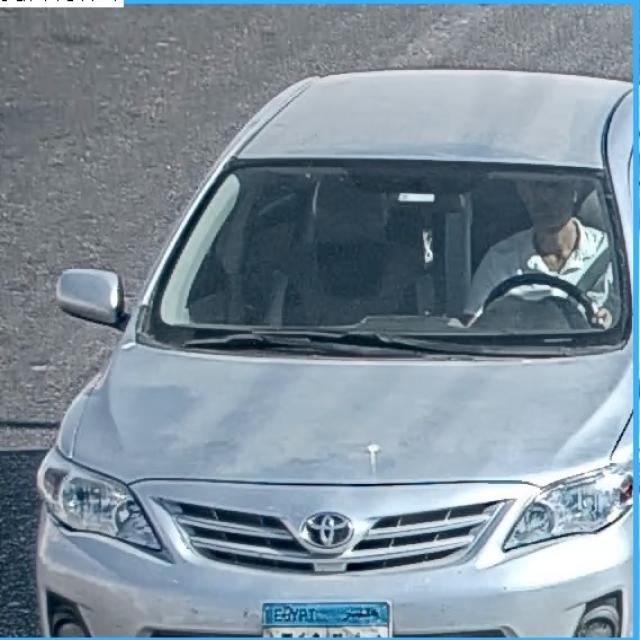windshield: (147, 156, 631, 333)
